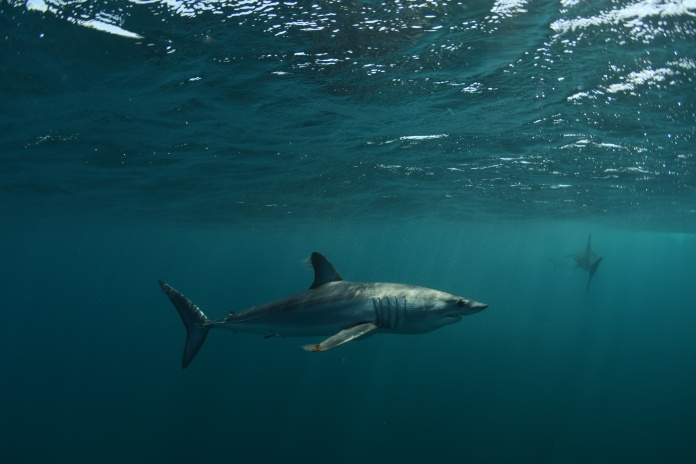Mako: (154, 245, 495, 374)
